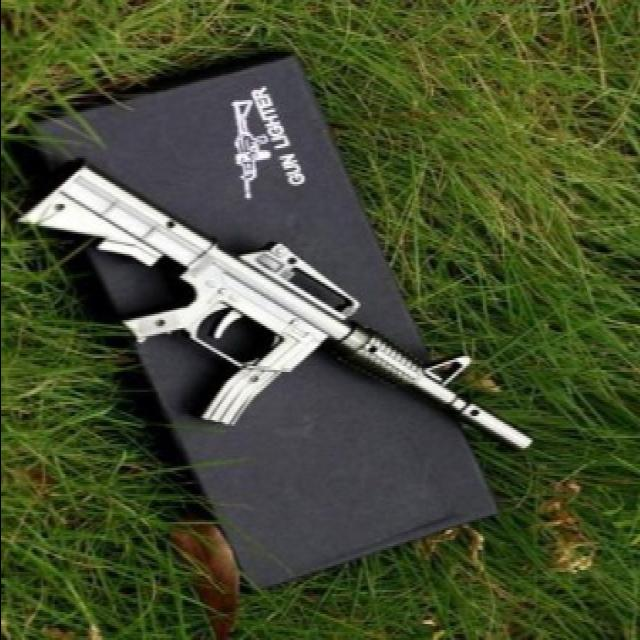rifle: (13, 123, 548, 467)
